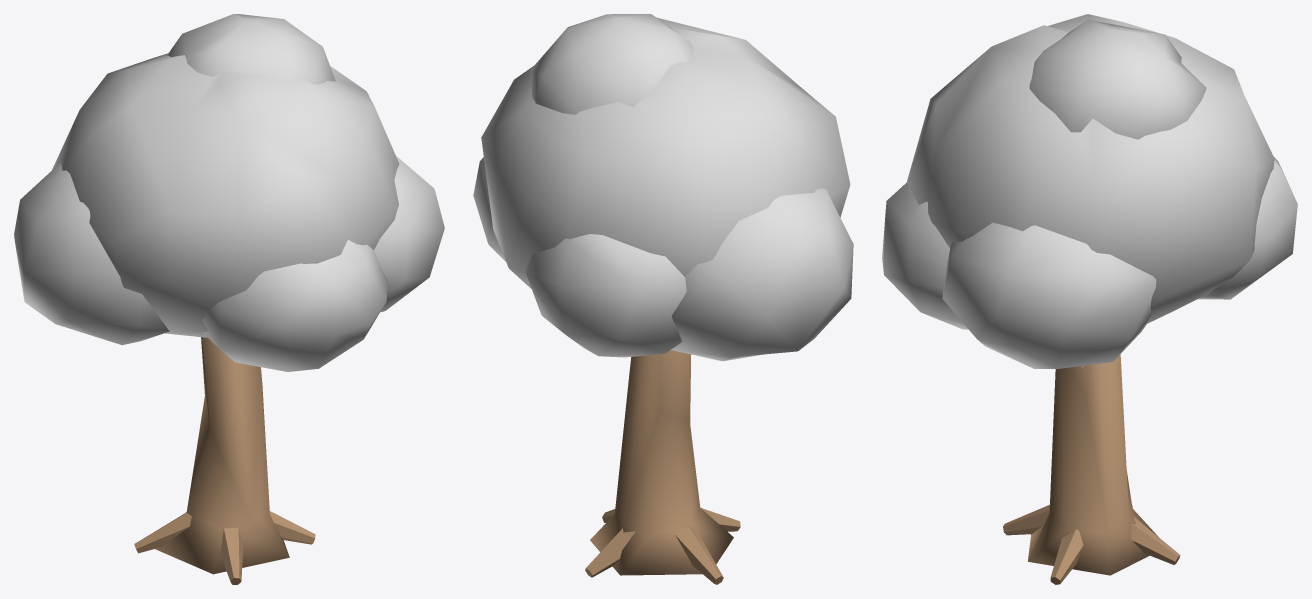
Rendered from tree.glb.
3 renders of one model, left to right at view 1: azimuth 30°, elevation 25°; view 2: azimuth 150°, elevation 25°; view 3: azimuth 270°, elevation 25°, orthographic. The views are drawn at different scales.
Visible parts, largest first — view 1: Tree; view 2: Tree; view 3: Tree.
Part boxes in pixels (x1=…): Tree: x1=14, y1=14, x2=444, y2=584; Tree: x1=473, y1=14, x2=853, y2=584; Tree: x1=882, y1=14, x2=1297, y2=584.
Bounding box in the file's own units: 3.77 × 4.96 × 3.49.
